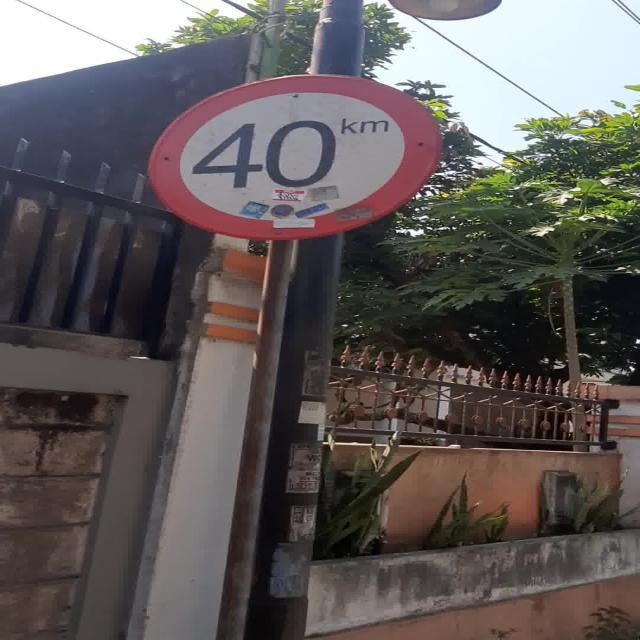Kecepatan Maks. 40 km: (144, 73, 443, 240)
